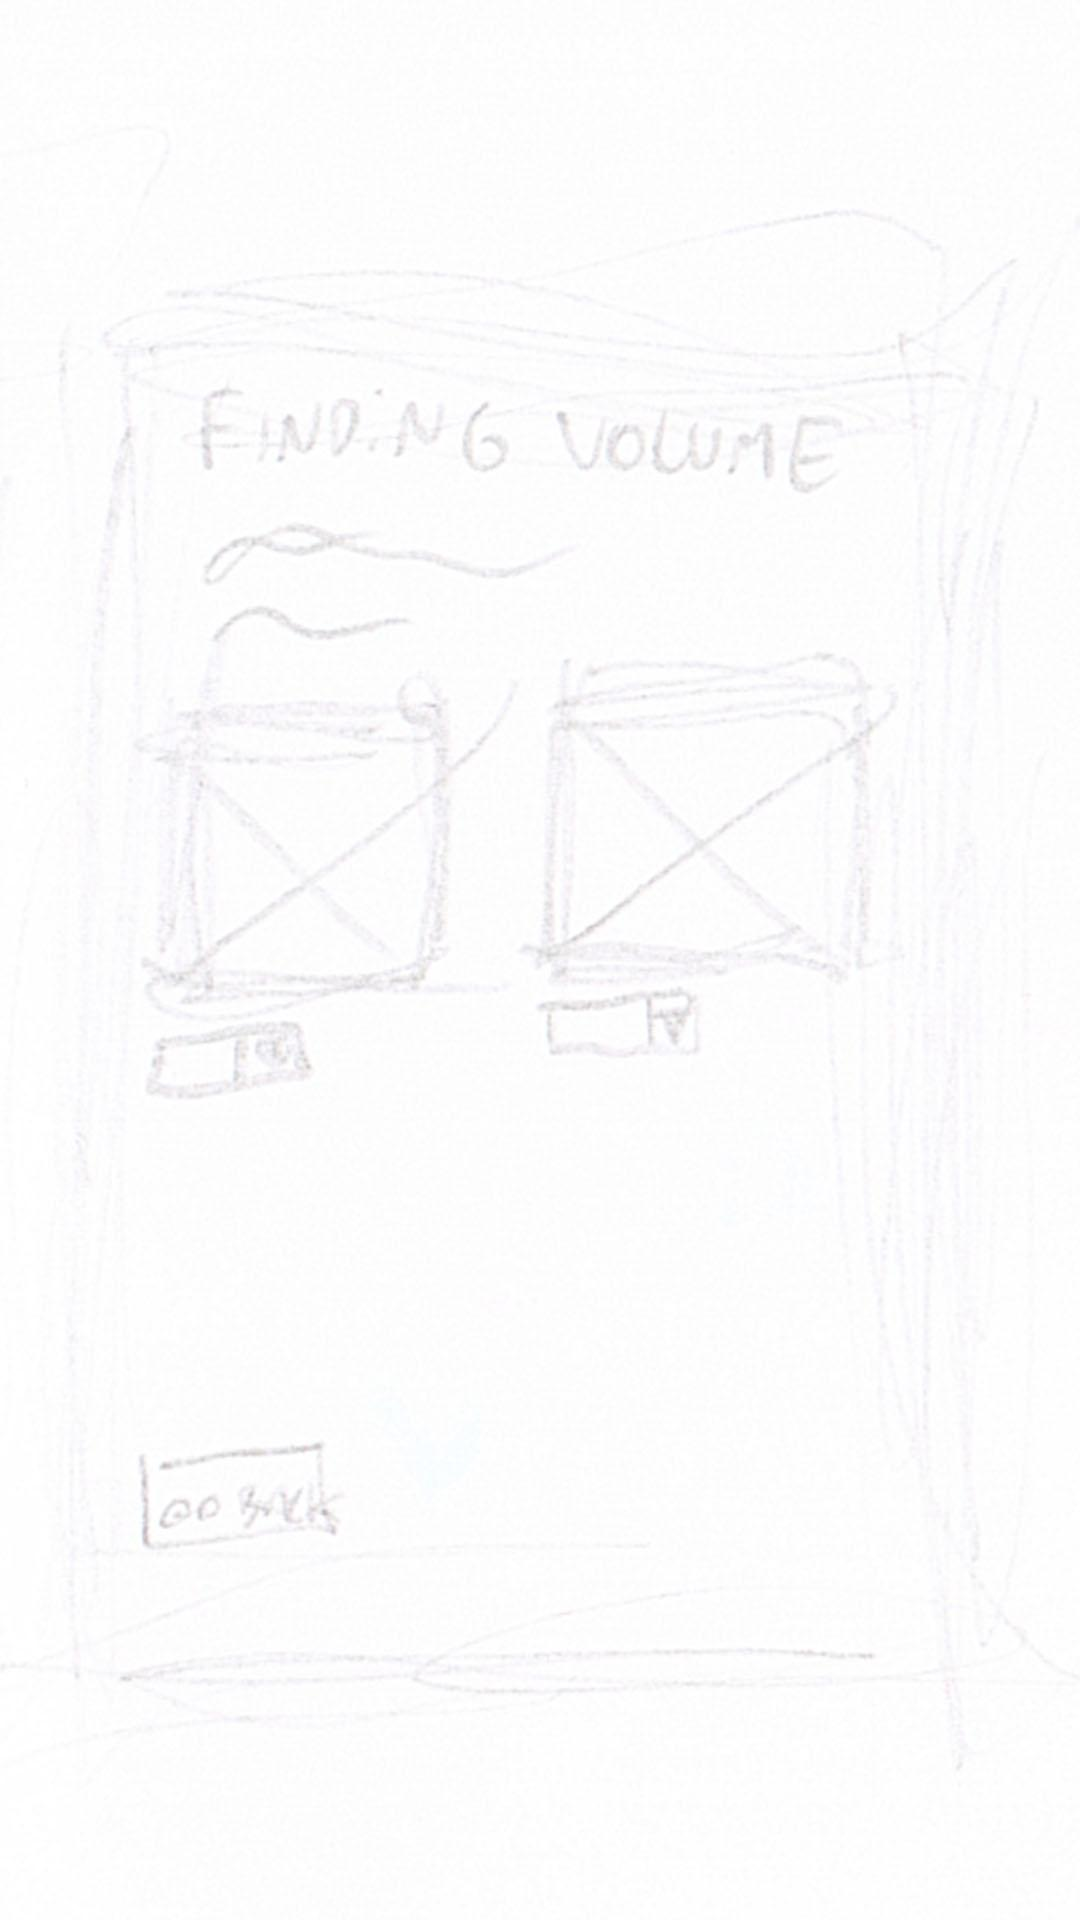Button: (142, 1436, 339, 1549)
Image: (550, 680, 864, 972), (165, 713, 447, 993)
Label: (187, 389, 849, 498), (203, 516, 582, 646)
ListPicker: (150, 1017, 311, 1100), (537, 992, 704, 1060)
Screen: (100, 324, 965, 1687)
